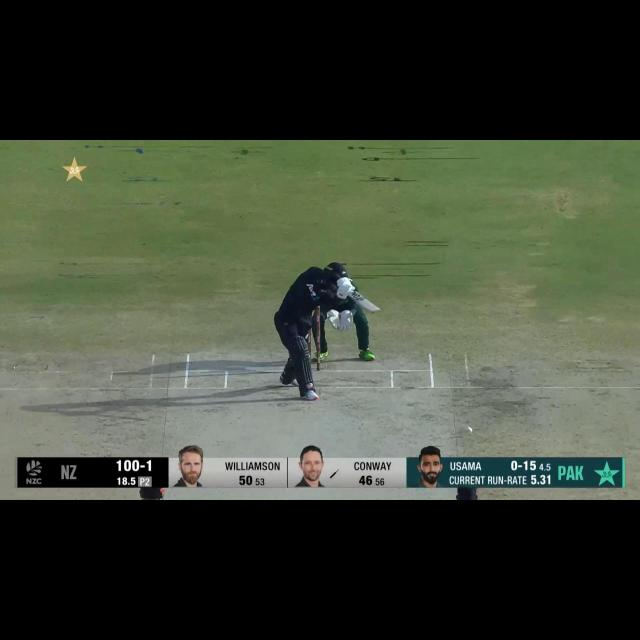bat: (350, 291, 380, 312)
toe: (367, 306, 382, 314)
